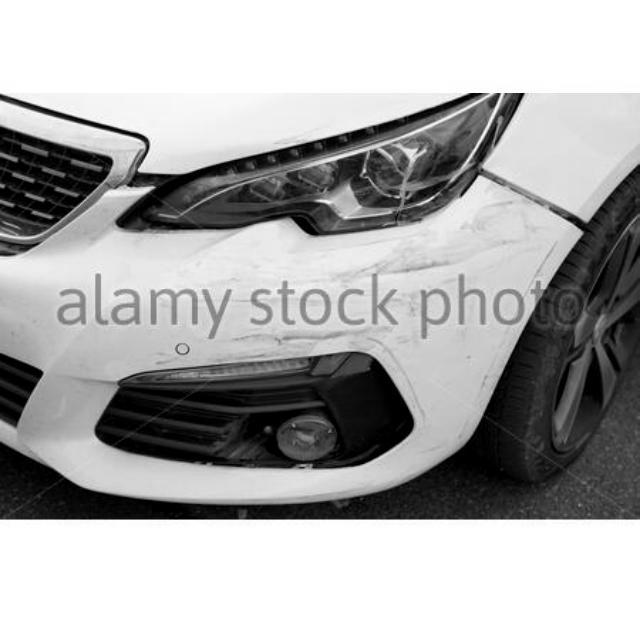front-bumper-dent: (0, 169, 576, 507), (0, 165, 362, 467)
